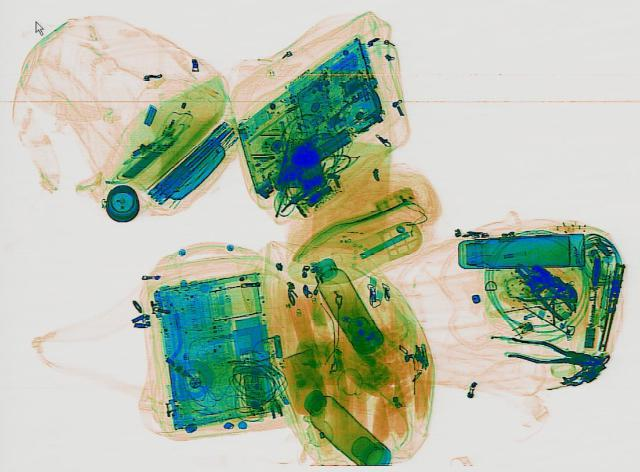Pliers: (503, 257, 583, 321), (502, 333, 606, 370)
